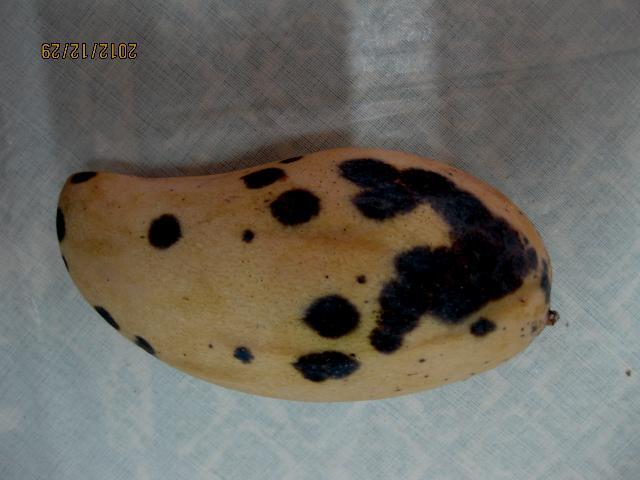Mango Overripe: (26, 120, 591, 391)
